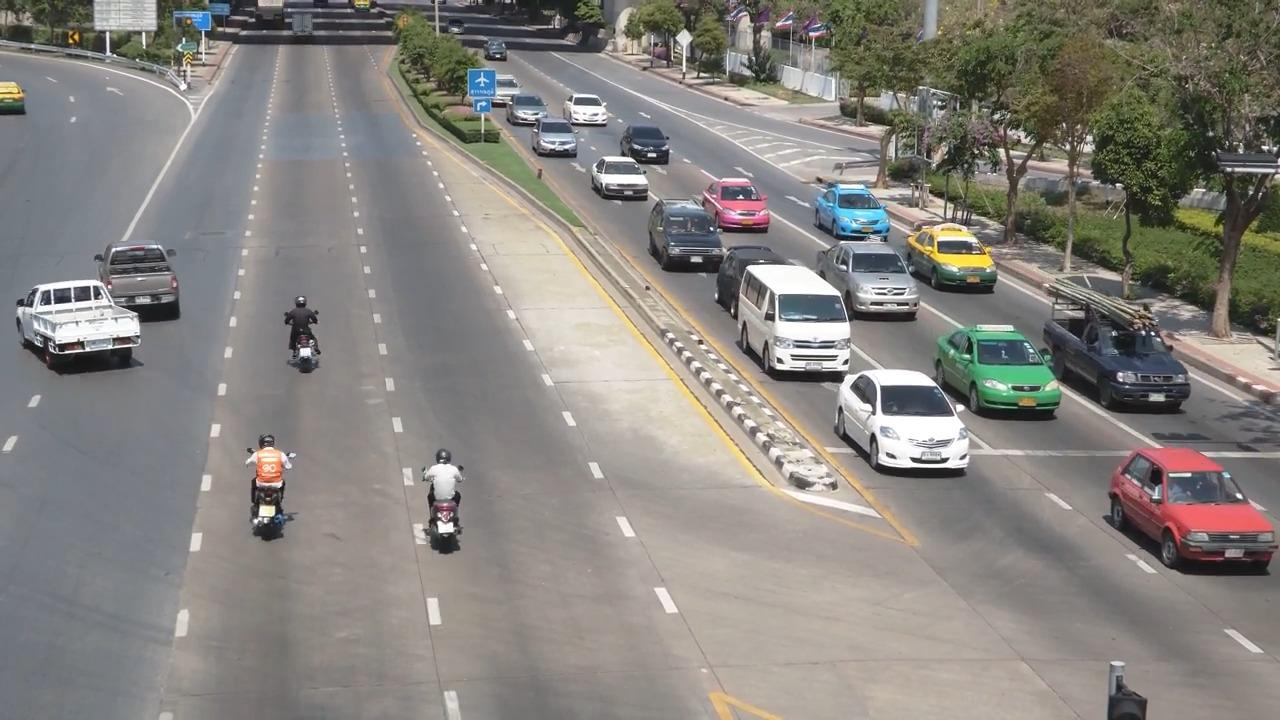CAR: (1103, 440, 1268, 579), (1036, 288, 1197, 421), (829, 355, 989, 479), (0, 273, 157, 394), (930, 308, 1076, 425), (741, 255, 864, 382), (93, 226, 201, 323), (902, 213, 999, 297), (824, 237, 921, 317), (645, 198, 733, 280), (806, 178, 900, 247), (701, 177, 780, 237), (592, 150, 653, 208), (612, 115, 680, 166), (532, 114, 585, 163), (504, 83, 547, 131), (563, 87, 611, 129)
MOTOR: (230, 428, 323, 557), (414, 439, 498, 571), (264, 290, 348, 401)
